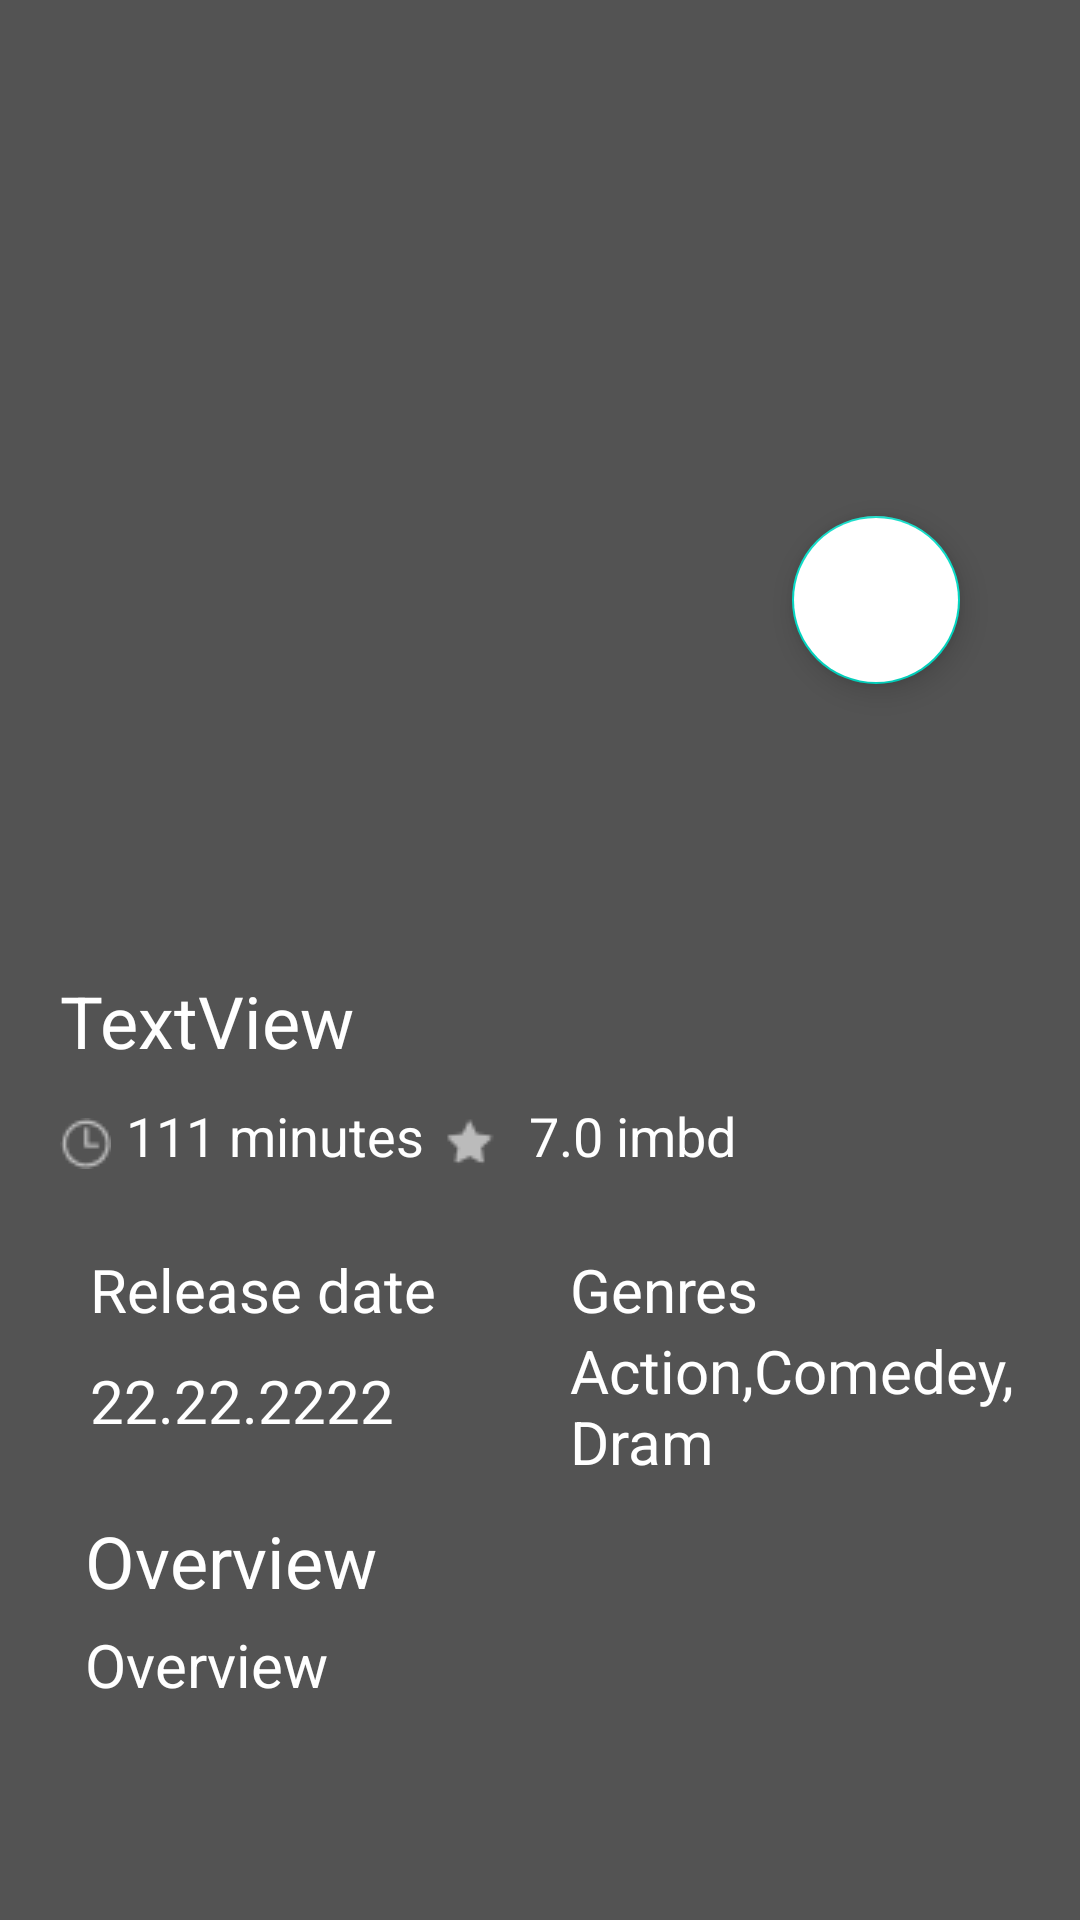

Icons on this 1080 × 1920 Android screen, each with the point to tap as [x,y]:
rating: [469,1141]
time: [86,1143]
